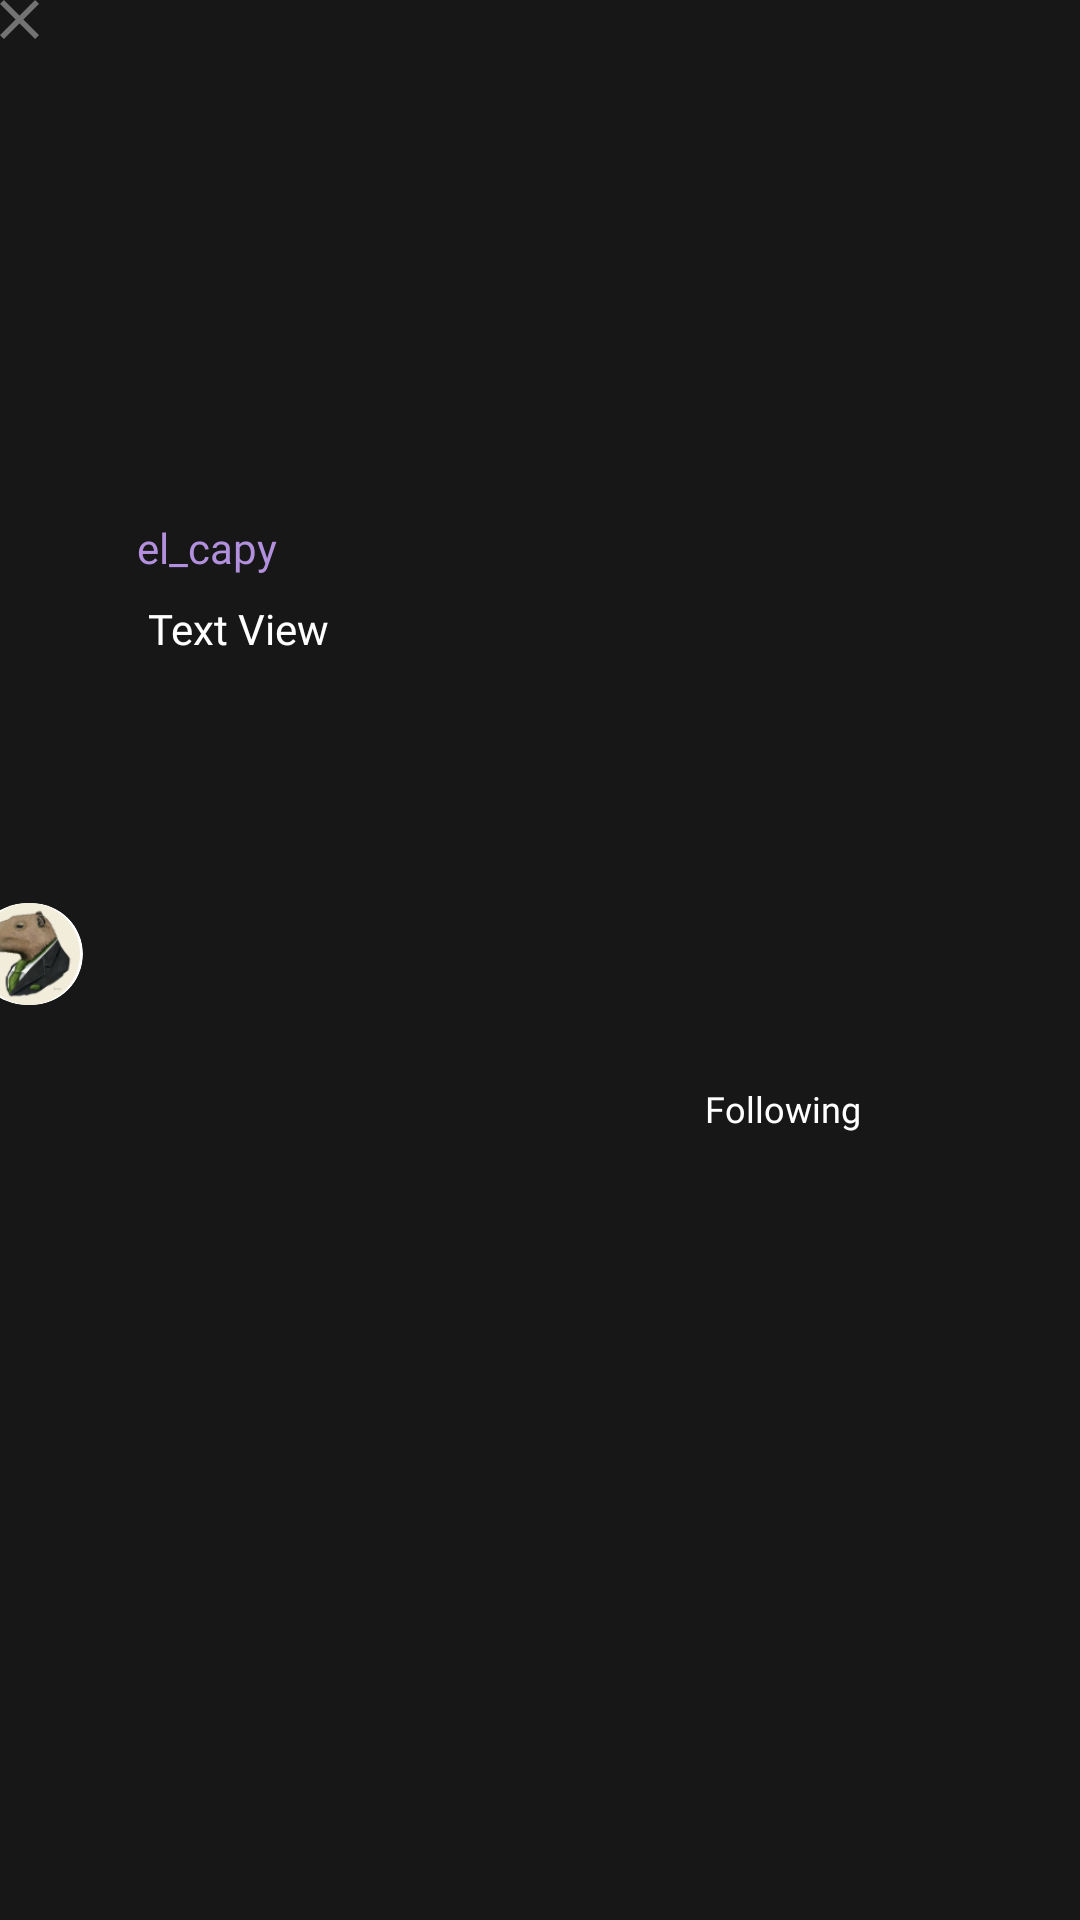

Where to tap for icons on this 1080*1920 app screen, as point (x, y):
close: point (19, 19)
